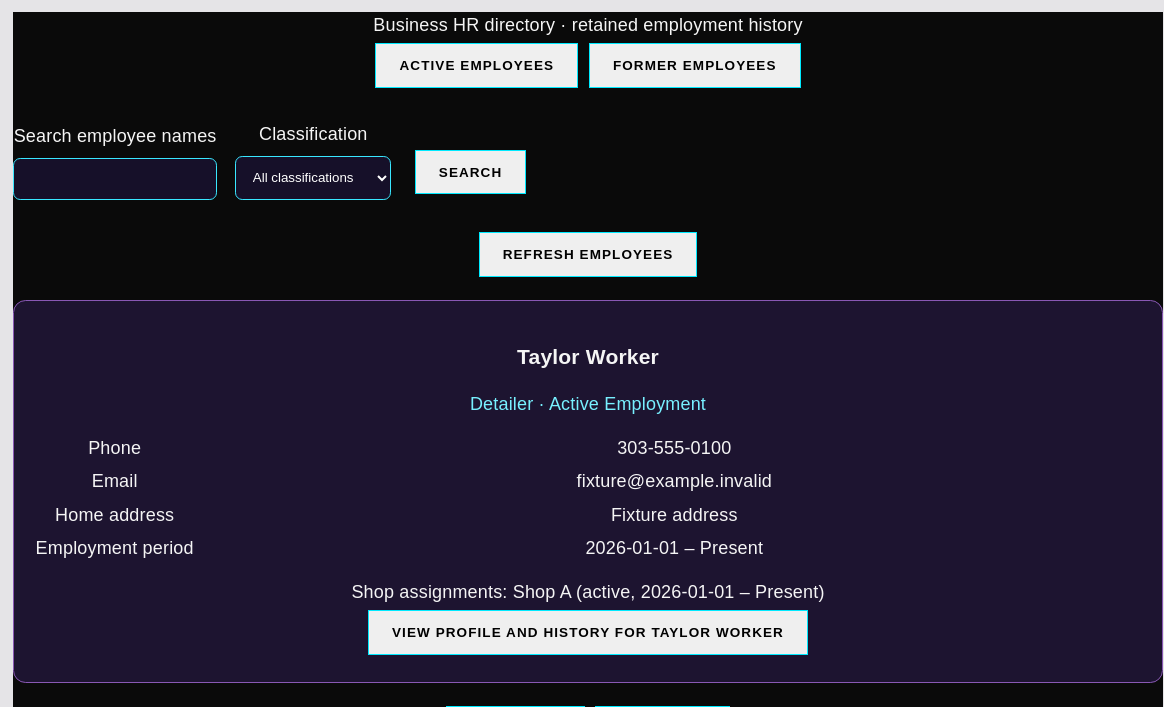
revocation discovered by a profile request clears the whole private directory
Click the button "View profile and history for Taylor Worker" at (588, 633), box 368,610 -> 808,655
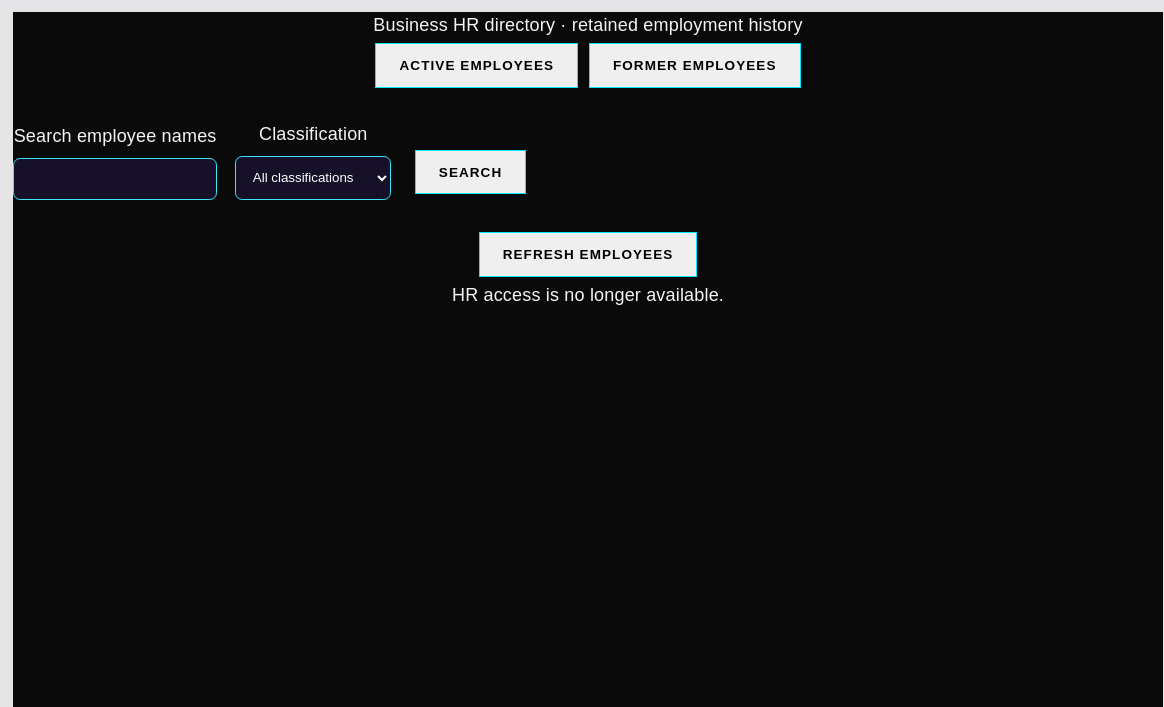
Now the message "HR access is no longer available." is shown, box 452,285 -> 724,305
Now the text "Fixture address" is gone
Now the heading "Taylor Worker" is gone
